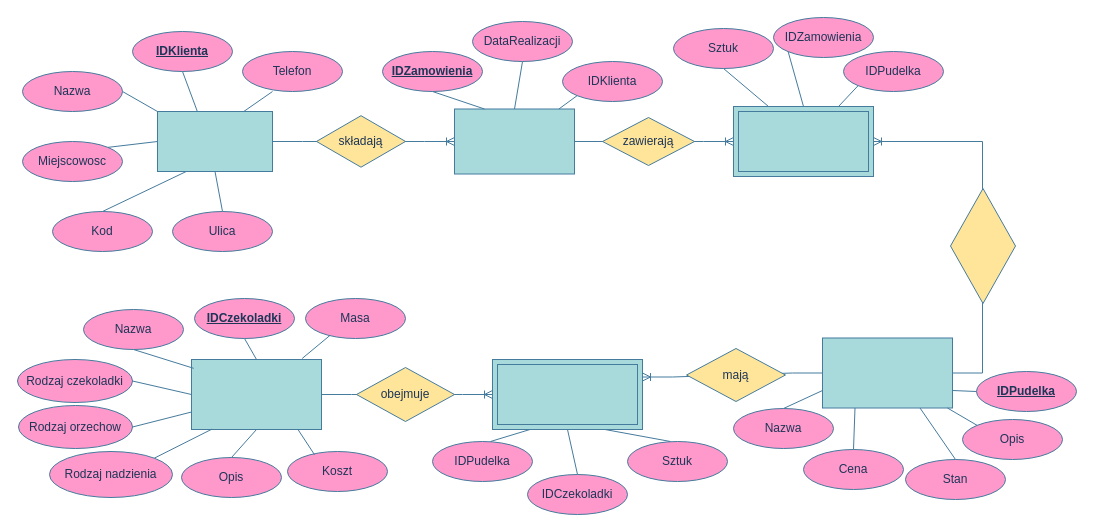
Some shapes in this 1094 by 532 pixel diagram are drawn without their labels. Each missing label, with the centre of its shape:
"Artykuły" goes at [803,141].
"Czekoladki" goes at [256,394].
"Klienci" goes at [214,141].
"Pudelka" goes at [887,372].
"są pakowane w" goes at [983,246].
"Zamowienia" goes at [514,141].
"Zawartosc" goes at [567,394].
